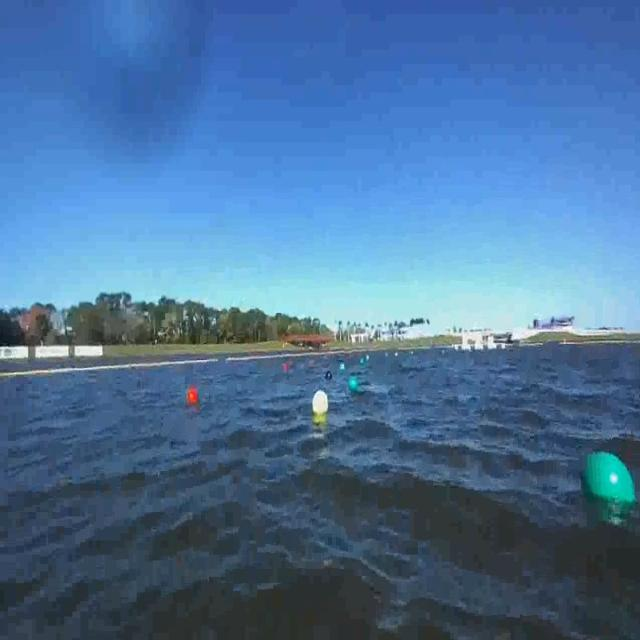black-buoy: (328, 368, 335, 381)
green-buoy: (578, 450, 636, 515), (349, 375, 359, 394)
red-buoy: (186, 386, 198, 407)
yellow-buoy: (313, 390, 329, 418)
